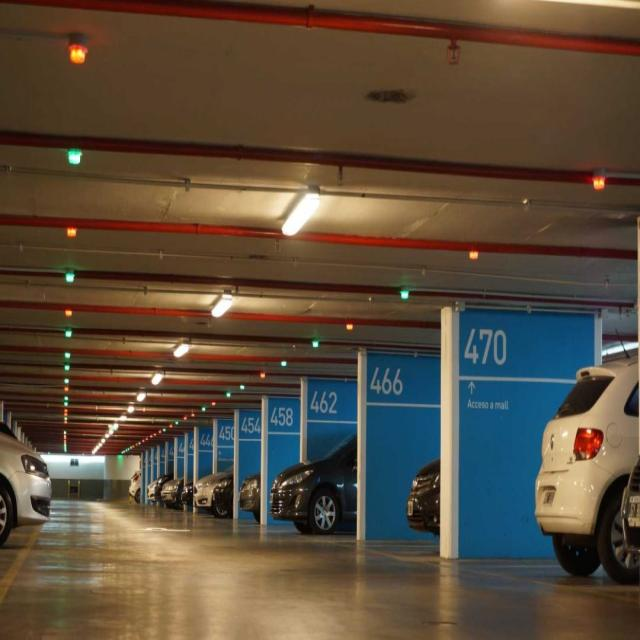ocupado: (510, 325, 640, 640), (120, 447, 358, 531), (1, 409, 57, 552)
